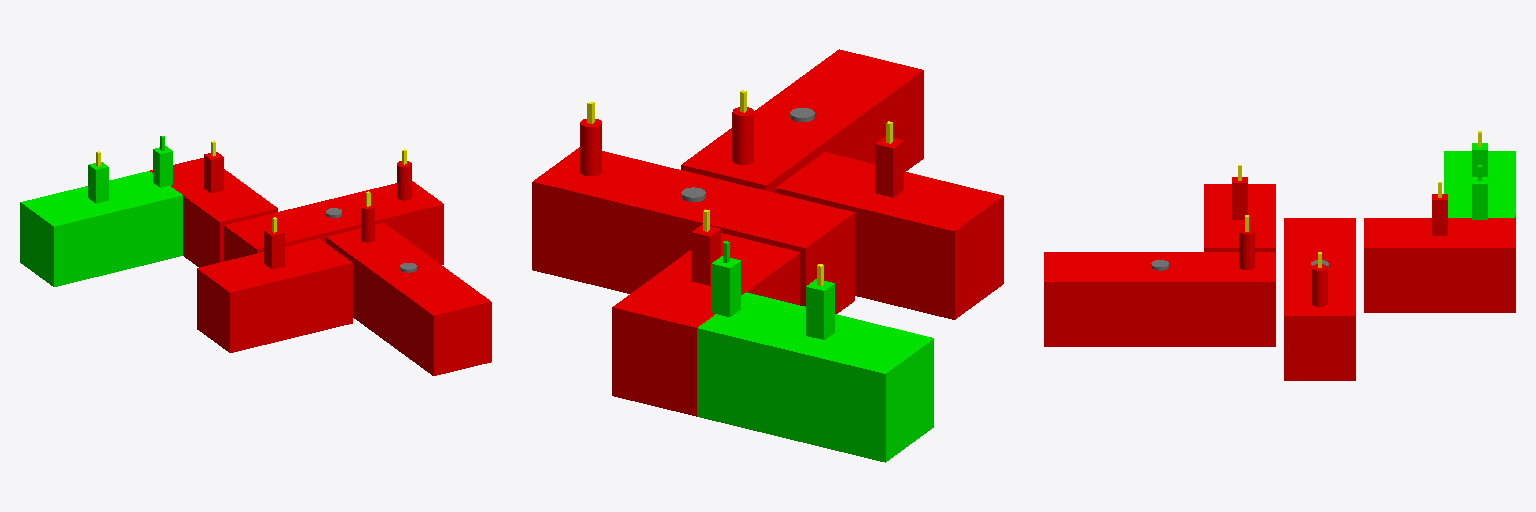
The robot description file, URDF, robot "grid_world3":
<?xml version="1.0"?>
<!-- created with Phobos 1.0.1 "Capricious Choutengan" -->
  <robot name="grid_world3">

    <link name="base_link">
    </link>

    <link name="goal">
      <visual name="visual_box_0_link_0.001">
        <origin xyz="0 0 0" rpy="0 0 0"/>
        <geometry>
          <box size="1.8971 0.8981 0.8981"/>
        </geometry>
        <material name="green_translucent"/>
      </visual>
    </link>

    <link name="link_0_joint_0">
      <visual name="visual_box_0_link_0">
        <origin xyz="0 0 0" rpy="0 0 0"/>
        <geometry>
          <box size="1.899 0.899 0.899"/>
        </geometry>
        <material name="green"/>
      </visual>
      <collision name="collision_box_0_link_0">
        <origin xyz="0 0 0" rpy="0 0 0"/>
        <geometry>
          <box size="1.899 0.899 0.899"/>
        </geometry>
      </collision>
    </link>

    <link name="link_1_joint_0">
      <visual name="visual_box_3_link_1">
        <origin xyz="0 0 0" rpy="0 0 0"/>
        <geometry>
          <box size="1.899 0.899 0.899"/>
        </geometry>
        <material name="red"/>
      </visual>
      <collision name="collision_box_3_link_1">
        <origin xyz="0 0 0" rpy="0 0 0"/>
        <geometry>
          <box size="1.899 0.899 0.899"/>
        </geometry>
      </collision>
    </link>

    <link name="link_2_joint_0">
      <visual name="visual_box_6_link_2">
        <origin xyz="0 0 0" rpy="0 0 0"/>
        <geometry>
          <box size="2.899 0.899 0.899"/>
        </geometry>
        <material name="red"/>
      </visual>
      <collision name="collision_box_6_link_2">
        <origin xyz="0 0 0" rpy="0 0 0"/>
        <geometry>
          <box size="2.899 0.899 0.899"/>
        </geometry>
      </collision>
    </link>

    <link name="link_3_joint_0">
      <visual name="visual_box_10_link_3">
        <origin xyz="0 0 0" rpy="0 0 0"/>
        <geometry>
          <box size="2.899 0.899 0.899"/>
        </geometry>
        <material name="red"/>
      </visual>
      <collision name="collision_box_10_link_3">
        <origin xyz="0 0 0" rpy="0 0 0"/>
        <geometry>
          <box size="2.899 0.899 0.899"/>
        </geometry>
      </collision>
    </link>

    <link name="link_4_joint_0">
      <visual name="visual_box_14_link_4">
        <origin xyz="0 0 0" rpy="0 0 0"/>
        <geometry>
          <box size="1.899 0.899 0.899"/>
        </geometry>
        <material name="red"/>
      </visual>
      <collision name="collision_box_14_link_4">
        <origin xyz="0 0 0" rpy="0 0 0"/>
        <geometry>
          <box size="1.899 0.899 0.899"/>
        </geometry>
      </collision>
    </link>

    <link name="link_fixed_11_hinge">
      <visual name="visual_cylinder_fixed_11_hinge">
        <origin xyz="0 0 0" rpy="0 0 0"/>
        <geometry>
          <cylinder radius="0.112" length="0.989"/>
        </geometry>
        <material name="gray"/>
      </visual>
    </link>

    <link name="link_fixed_12_handle_shaft">
      <visual name="visual_cylinder_fixed_12_handle_shaft">
        <origin xyz="0 0 0" rpy="0 0 0"/>
        <geometry>
          <cylinder radius="0.0995" length="0.499"/>
        </geometry>
        <material name="red"/>
      </visual>
      <collision name="collision_cylinder_fixed_12_handle_shaft">
        <origin xyz="0 0 0" rpy="0 0 0"/>
        <geometry>
          <cylinder radius="0.0995" length="0.499"/>
        </geometry>
      </collision>
    </link>

    <link name="link_fixed_13_handle_knob">
      <visual name="visual_box_fixed_13_handle_knob">
        <origin xyz="0 0 0" rpy="0 0 0"/>
        <geometry>
          <box size="0.049 0.049 0.199"/>
        </geometry>
        <material name="yellow"/>
      </visual>
      <collision name="collision_box_fixed_13_handle_knob">
        <origin xyz="0 0 0" rpy="0 0 0"/>
        <geometry>
          <box size="0.049 0.049 0.199"/>
        </geometry>
      </collision>
    </link>

    <link name="link_fixed_15_handle_shaft">
      <visual name="visual_box_fixed_15_handle_shaft">
        <origin xyz="0 0 0" rpy="0 0 0"/>
        <geometry>
          <box size="0.199 0.199 0.499"/>
        </geometry>
        <material name="red"/>
      </visual>
      <collision name="collision_box_fixed_15_handle_shaft">
        <origin xyz="0 0 0" rpy="0 0 0"/>
        <geometry>
          <box size="0.199 0.199 0.499"/>
        </geometry>
      </collision>
    </link>

    <link name="link_fixed_16_handle_knob">
      <visual name="visual_box_fixed_16_handle_knob">
        <origin xyz="0 0 0" rpy="0 0 0"/>
        <geometry>
          <box size="0.049 0.049 0.199"/>
        </geometry>
        <material name="yellow"/>
      </visual>
      <collision name="collision_box_fixed_16_handle_knob">
        <origin xyz="0 0 0" rpy="0 0 0"/>
        <geometry>
          <box size="0.049 0.049 0.199"/>
        </geometry>
      </collision>
    </link>

    <link name="link_fixed_1_handle_shaft">
      <visual name="visual_box_fixed_1_handle_shaft">
        <origin xyz="0 0 0" rpy="0 0 0"/>
        <geometry>
          <box size="0.199 0.199 0.499"/>
        </geometry>
        <material name="green"/>
      </visual>
      <collision name="collision_box_fixed_1_handle_shaft">
        <origin xyz="0 0 0" rpy="0 0 0"/>
        <geometry>
          <box size="0.199 0.199 0.499"/>
        </geometry>
      </collision>
    </link>

    <link name="link_fixed_1_handle_shaft.001">
      <visual name="visual_box_fixed_1_handle_shaft.001">
        <origin xyz="0 0 0" rpy="0 0 0"/>
        <geometry>
          <box size="0.1988 0.1988 0.4985"/>
        </geometry>
        <material name="green_translucent"/>
      </visual>
    </link>

    <link name="link_fixed_2_handle_knob">
      <visual name="visual_box_fixed_2_handle_knob">
        <origin xyz="0 0 0" rpy="0 0 0"/>
        <geometry>
          <box size="0.049 0.049 0.199"/>
        </geometry>
        <material name="yellow"/>
      </visual>
      <collision name="collision_box_fixed_2_handle_knob">
        <origin xyz="0 0 0" rpy="0 0 0"/>
        <geometry>
          <box size="0.049 0.049 0.199"/>
        </geometry>
      </collision>
    </link>

    <link name="link_fixed_2_handle_knob.001">
      <visual name="visual_box_fixed_2_handle_knob.001">
        <origin xyz="0 0 0" rpy="0 0 0"/>
        <geometry>
          <box size="0.04895 0.04895 0.1988"/>
        </geometry>
        <material name="green_translucent"/>
      </visual>
    </link>

    <link name="link_fixed_4_handle_shaft">
      <visual name="visual_box_fixed_4_handle_shaft">
        <origin xyz="0 0 0" rpy="0 0 0"/>
        <geometry>
          <box size="0.199 0.199 0.499"/>
        </geometry>
        <material name="red"/>
      </visual>
      <collision name="collision_box_fixed_4_handle_shaft">
        <origin xyz="0 0 0" rpy="0 0 0"/>
        <geometry>
          <box size="0.199 0.199 0.499"/>
        </geometry>
      </collision>
    </link>

    <link name="link_fixed_5_handle_knob">
      <visual name="visual_box_fixed_5_handle_knob">
        <origin xyz="0 0 0" rpy="0 0 0"/>
        <geometry>
          <box size="0.049 0.049 0.199"/>
        </geometry>
        <material name="yellow"/>
      </visual>
      <collision name="collision_box_fixed_5_handle_knob">
        <origin xyz="0 0 0" rpy="0 0 0"/>
        <geometry>
          <box size="0.049 0.049 0.199"/>
        </geometry>
      </collision>
    </link>

    <link name="link_fixed_7_hinge">
      <visual name="visual_cylinder_fixed_7_hinge">
        <origin xyz="0 0 0" rpy="0 0 0"/>
        <geometry>
          <cylinder radius="0.112" length="0.989"/>
        </geometry>
        <material name="gray"/>
      </visual>
    </link>

    <link name="link_fixed_8_handle_shaft">
      <visual name="visual_cylinder_fixed_8_handle_shaft">
        <origin xyz="0 0 0" rpy="0 0 0"/>
        <geometry>
          <cylinder radius="0.0995" length="0.499"/>
        </geometry>
        <material name="red"/>
      </visual>
      <collision name="collision_cylinder_fixed_8_handle_shaft">
        <origin xyz="0 0 0" rpy="0 0 0"/>
        <geometry>
          <cylinder radius="0.0995" length="0.499"/>
        </geometry>
      </collision>
    </link>

    <link name="link_fixed_9_handle_knob">
      <visual name="visual_box_fixed_9_handle_knob">
        <origin xyz="0 0 0" rpy="0 0 0"/>
        <geometry>
          <box size="0.049 0.049 0.199"/>
        </geometry>
        <material name="yellow"/>
      </visual>
      <collision name="collision_box_fixed_9_handle_knob">
        <origin xyz="0 0 0" rpy="0 0 0"/>
        <geometry>
          <box size="0.049 0.049 0.199"/>
        </geometry>
      </collision>
    </link>

    <joint name="goal" type="fixed">
      <origin xyz="2.0 0.5 0.45" rpy="0 0 0"/>
      <parent link="base_link"/>
      <child link="goal"/>
      <limit effort="0" velocity="0"/>
    </joint>

    <joint name="link_0_joint_0" type="prismatic">
      <origin xyz="1.0 0.5 0.45" rpy="0 0 0"/>
      <parent link="base_link"/>
      <child link="link_0_joint_0"/>
      <axis xyz="1.0 0 0"/>
      <limit lower="0" upper="1.0" effort="0" velocity="0"/>
    </joint>

    <joint name="link_1_joint_0" type="prismatic">
      <origin xyz="2.5 0 0.45" rpy="0 0 -1.5708"/>
      <parent link="base_link"/>
      <child link="link_1_joint_0"/>
      <axis xyz="1.0 0 0"/>
      <limit lower="0" upper="1.0" effort="0" velocity="0"/>
    </joint>

    <joint name="link_2_joint_0" type="revolute">
      <origin xyz="3.5 -1.5 0.45" rpy="0 0 0"/>
      <parent link="base_link"/>
      <child link="link_2_joint_0"/>
      <axis xyz="0 0 1.0"/>
      <limit lower="0" upper="1.5708" effort="0" velocity="0"/>
    </joint>

    <joint name="link_3_joint_0" type="revolute">
      <origin xyz="3.5 -3.5 0.45" rpy="0 0 1.5708"/>
      <parent link="base_link"/>
      <child link="link_3_joint_0"/>
      <axis xyz="0 0 1.0"/>
      <limit lower="-1.5708" upper="0" effort="0" velocity="0"/>
    </joint>

    <joint name="link_4_joint_0" type="prismatic">
      <origin xyz="2.0 -2.5 0.45" rpy="0 0 3.14159"/>
      <parent link="base_link"/>
      <child link="link_4_joint_0"/>
      <axis xyz="1.0 0 0"/>
      <limit lower="0" upper="1.0" effort="0" velocity="0"/>
    </joint>

    <joint name="link_fixed_11_hinge" type="fixed">
      <origin xyz="0 0 0" rpy="0 0 0"/>
      <parent link="link_3_joint_0"/>
      <child link="link_fixed_11_hinge"/>
    </joint>

    <joint name="link_fixed_12_handle_shaft" type="fixed">
      <origin xyz="1.0875 0 0.7" rpy="0 0 0"/>
      <parent link="link_3_joint_0"/>
      <child link="link_fixed_12_handle_shaft"/>
    </joint>

    <joint name="link_fixed_13_handle_knob" type="fixed">
      <origin xyz="0 0 0.35" rpy="0 0 0"/>
      <parent link="link_fixed_12_handle_shaft"/>
      <child link="link_fixed_13_handle_knob"/>
    </joint>

    <joint name="link_fixed_15_handle_shaft" type="fixed">
      <origin xyz="0 0 0.7" rpy="0 0 0"/>
      <parent link="link_4_joint_0"/>
      <child link="link_fixed_15_handle_shaft"/>
    </joint>

    <joint name="link_fixed_16_handle_knob" type="fixed">
      <origin xyz="0 0 0.35" rpy="0 0 0"/>
      <parent link="link_fixed_15_handle_shaft"/>
      <child link="link_fixed_16_handle_knob"/>
    </joint>

    <joint name="link_fixed_1_handle_shaft" type="fixed">
      <origin xyz="0 0 0.7" rpy="0 0 0"/>
      <parent link="link_0_joint_0"/>
      <child link="link_fixed_1_handle_shaft"/>
    </joint>

    <joint name="link_fixed_1_handle_shaft.001" type="fixed">
      <origin xyz="0 0 0.6993" rpy="0 0 0"/>
      <parent link="goal"/>
      <child link="link_fixed_1_handle_shaft.001"/>
    </joint>

    <joint name="link_fixed_2_handle_knob" type="fixed">
      <origin xyz="0 0 0.35" rpy="0 0 0"/>
      <parent link="link_fixed_1_handle_shaft"/>
      <child link="link_fixed_2_handle_knob"/>
    </joint>

    <joint name="link_fixed_2_handle_knob.001" type="fixed">
      <origin xyz="0 0 0.34965" rpy="0 0 0"/>
      <parent link="link_fixed_1_handle_shaft.001"/>
      <child link="link_fixed_2_handle_knob.001"/>
    </joint>

    <joint name="link_fixed_4_handle_shaft" type="fixed">
      <origin xyz="0 0 0.7" rpy="0 0 0"/>
      <parent link="link_1_joint_0"/>
      <child link="link_fixed_4_handle_shaft"/>
    </joint>

    <joint name="link_fixed_5_handle_knob" type="fixed">
      <origin xyz="0 0 0.35" rpy="0 0 0"/>
      <parent link="link_fixed_4_handle_shaft"/>
      <child link="link_fixed_5_handle_knob"/>
    </joint>

    <joint name="link_fixed_7_hinge" type="fixed">
      <origin xyz="0 0 0" rpy="0 0 0"/>
      <parent link="link_2_joint_0"/>
      <child link="link_fixed_7_hinge"/>
    </joint>

    <joint name="link_fixed_8_handle_shaft" type="fixed">
      <origin xyz="1.0875 0 0.7" rpy="0 0 0"/>
      <parent link="link_2_joint_0"/>
      <child link="link_fixed_8_handle_shaft"/>
    </joint>

    <joint name="link_fixed_9_handle_knob" type="fixed">
      <origin xyz="0 0 0.35" rpy="0 0 0"/>
      <parent link="link_fixed_8_handle_shaft"/>
      <child link="link_fixed_9_handle_knob"/>
    </joint>

    <material name="gray">
      <color rgba="0.5 0.5 0.5 1.0"/>
    </material>

    <material name="green">
      <color rgba="0 1.0 0 1.0"/>
    </material>

    <material name="green_translucent">
      <color rgba="0 1.0 0 0.25"/>
    </material>

    <material name="red">
      <color rgba="1.0 0 0 1.0"/>
    </material>

    <material name="yellow">
      <color rgba="1.0 1.0 0 1.0"/>
    </material>

  </robot>

--- What the picture shows (computed from the rendered views, not written in the file) ---
Views: 3 orthographic renders of the robot side by side, from view 1: azimuth 30°, elevation 25°; view 2: azimuth 150°, elevation 25°; view 3: azimuth 270°, elevation 25°.
Model grid_world3 with 21 links and 20 joints (2 revolute, 3 prismatic, 15 fixed), rooted at base_link, posed every joint at zero.
Visible links, largest first — view 1: link_3_joint_0, link_4_joint_0, link_0_joint_0, link_2_joint_0, link_1_joint_0, link_fixed_15_handle_shaft, link_fixed_1_handle_shaft, link_fixed_4_handle_shaft, link_fixed_1_handle_shaft.001, link_fixed_8_handle_shaft, goal, link_fixed_12_handle_shaft; view 2: link_2_joint_0, link_0_joint_0, link_4_joint_0, link_3_joint_0, link_1_joint_0, link_fixed_1_handle_shaft.001, link_fixed_1_handle_shaft, link_fixed_15_handle_shaft, link_fixed_4_handle_shaft, link_fixed_12_handle_shaft, link_fixed_8_handle_shaft, goal; view 3: link_3_joint_0, link_1_joint_0, link_2_joint_0, link_4_joint_0, link_0_joint_0, link_fixed_1_handle_shaft.001, link_fixed_15_handle_shaft, link_fixed_4_handle_shaft, link_fixed_8_handle_shaft, link_fixed_12_handle_shaft.
Link boxes in pixels (x1=…): link_3_joint_0: x1=326, y1=223, x2=491, y2=375; link_4_joint_0: x1=197, y1=238, x2=352, y2=352; link_0_joint_0: x1=20, y1=172, x2=175, y2=286; link_2_joint_0: x1=224, y1=181, x2=443, y2=264; link_1_joint_0: x1=150, y1=158, x2=277, y2=267; link_fixed_15_handle_shaft: x1=264, y1=228, x2=284, y2=269; link_fixed_1_handle_shaft: x1=88, y1=162, x2=108, y2=203; link_fixed_4_handle_shaft: x1=204, y1=152, x2=223, y2=193; link_fixed_1_handle_shaft.001: x1=153, y1=146, x2=172, y2=187; link_fixed_8_handle_shaft: x1=397, y1=161, x2=411, y2=200; goal: x1=143, y1=171, x2=182, y2=256; link_fixed_12_handle_shaft: x1=361, y1=203, x2=374, y2=242; link_2_joint_0: x1=532, y1=147, x2=854, y2=313; link_0_joint_0: x1=706, y1=295, x2=933, y2=462; link_4_joint_0: x1=776, y1=152, x2=1003, y2=319; link_3_joint_0: x1=681, y1=49, x2=923, y2=192; link_1_joint_0: x1=612, y1=233, x2=799, y2=416; link_fixed_1_handle_shaft.001: x1=711, y1=256, x2=740, y2=316; link_fixed_1_handle_shaft: x1=806, y1=279, x2=834, y2=339; link_fixed_15_handle_shaft: x1=875, y1=136, x2=903, y2=197; link_fixed_4_handle_shaft: x1=691, y1=224, x2=720, y2=285; link_fixed_12_handle_shaft: x1=732, y1=107, x2=753, y2=164; link_fixed_8_handle_shaft: x1=580, y1=119, x2=601, y2=176; goal: x1=697, y1=292, x2=754, y2=418; link_3_joint_0: x1=1044, y1=252, x2=1275, y2=346; link_1_joint_0: x1=1364, y1=218, x2=1515, y2=312; link_2_joint_0: x1=1284, y1=218, x2=1355, y2=380; link_4_joint_0: x1=1204, y1=184, x2=1275, y2=251; link_0_joint_0: x1=1444, y1=151, x2=1515, y2=217; link_fixed_1_handle_shaft.001: x1=1472, y1=177, x2=1487, y2=219; link_fixed_15_handle_shaft: x1=1232, y1=177, x2=1247, y2=219; link_fixed_4_handle_shaft: x1=1432, y1=194, x2=1447, y2=235; link_fixed_8_handle_shaft: x1=1312, y1=264, x2=1327, y2=306; link_fixed_12_handle_shaft: x1=1239, y1=228, x2=1254, y2=269.
Bounding box of the posed robot: 4.9 × 5.9 × 1.64 m (x, y, z).
Geometry: primitives only (box / cylinder / sphere), no mesh files.